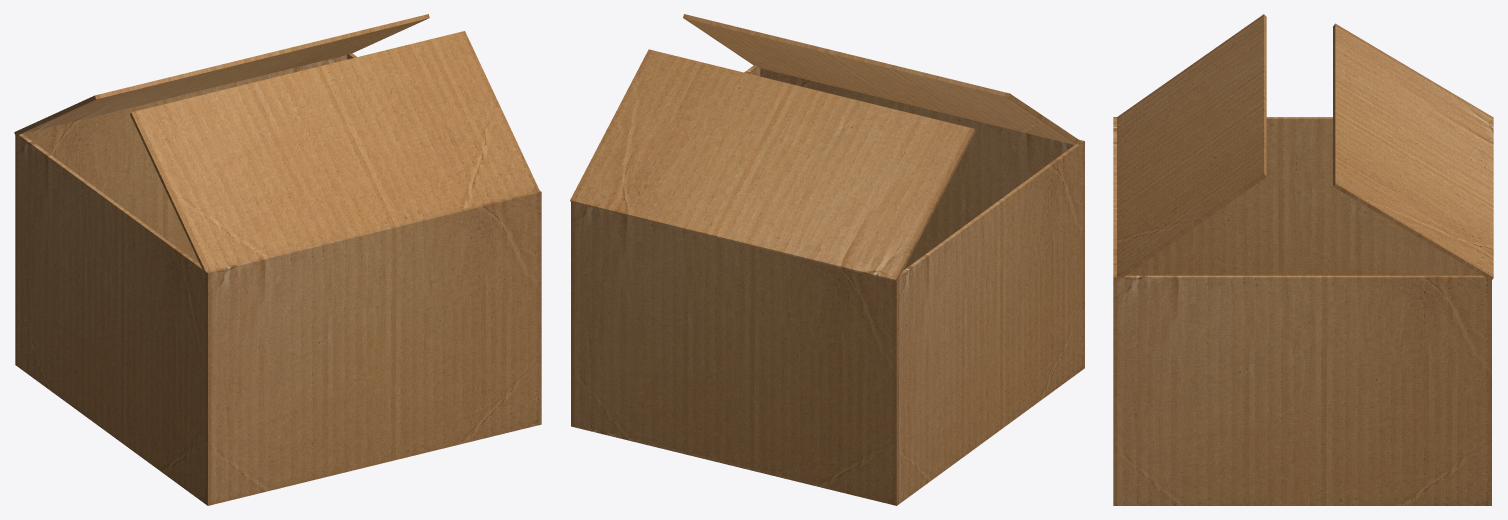
Rendered from Kardus6.fbx.
3 views of the same model, side by side, from view 1: azimuth 30°, elevation 25°; view 2: azimuth 150°, elevation 25°; view 3: azimuth 270°, elevation 25° (orthographic). The views are drawn at different scales.
Visible parts, largest first — view 1: Kardus6; view 2: Kardus6; view 3: Kardus6.
Boxes of the visible parts, x1=… form: Kardus6: x1=14, y1=14, x2=541, y2=505; Kardus6: x1=570, y1=14, x2=1084, y2=505; Kardus6: x1=1113, y1=14, x2=1493, y2=505.
Bounding box in the file's own units: 92 × 88.89 × 92.41.
